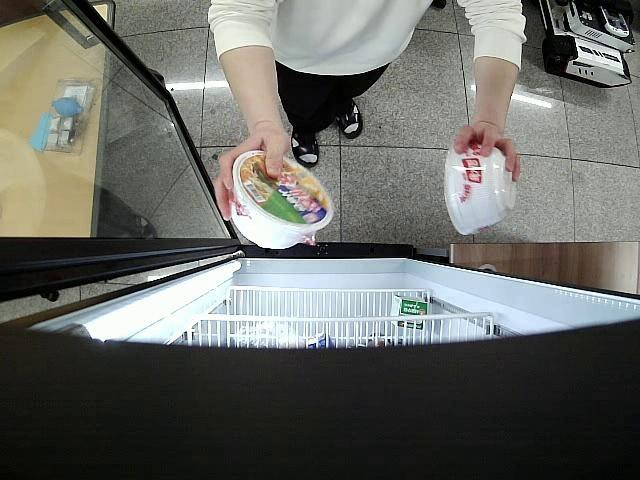09_yukGaeJang: (230, 152, 334, 250), (444, 140, 518, 235)
